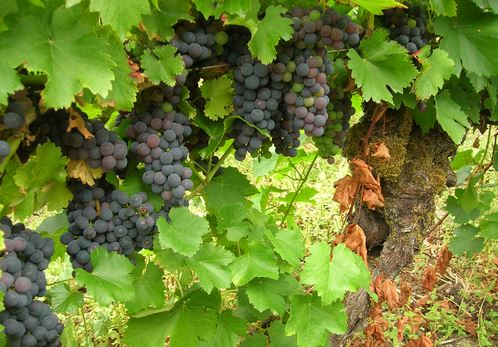Black grapes: (282, 8, 358, 142), (57, 174, 162, 267), (122, 90, 201, 210), (229, 48, 283, 168)
